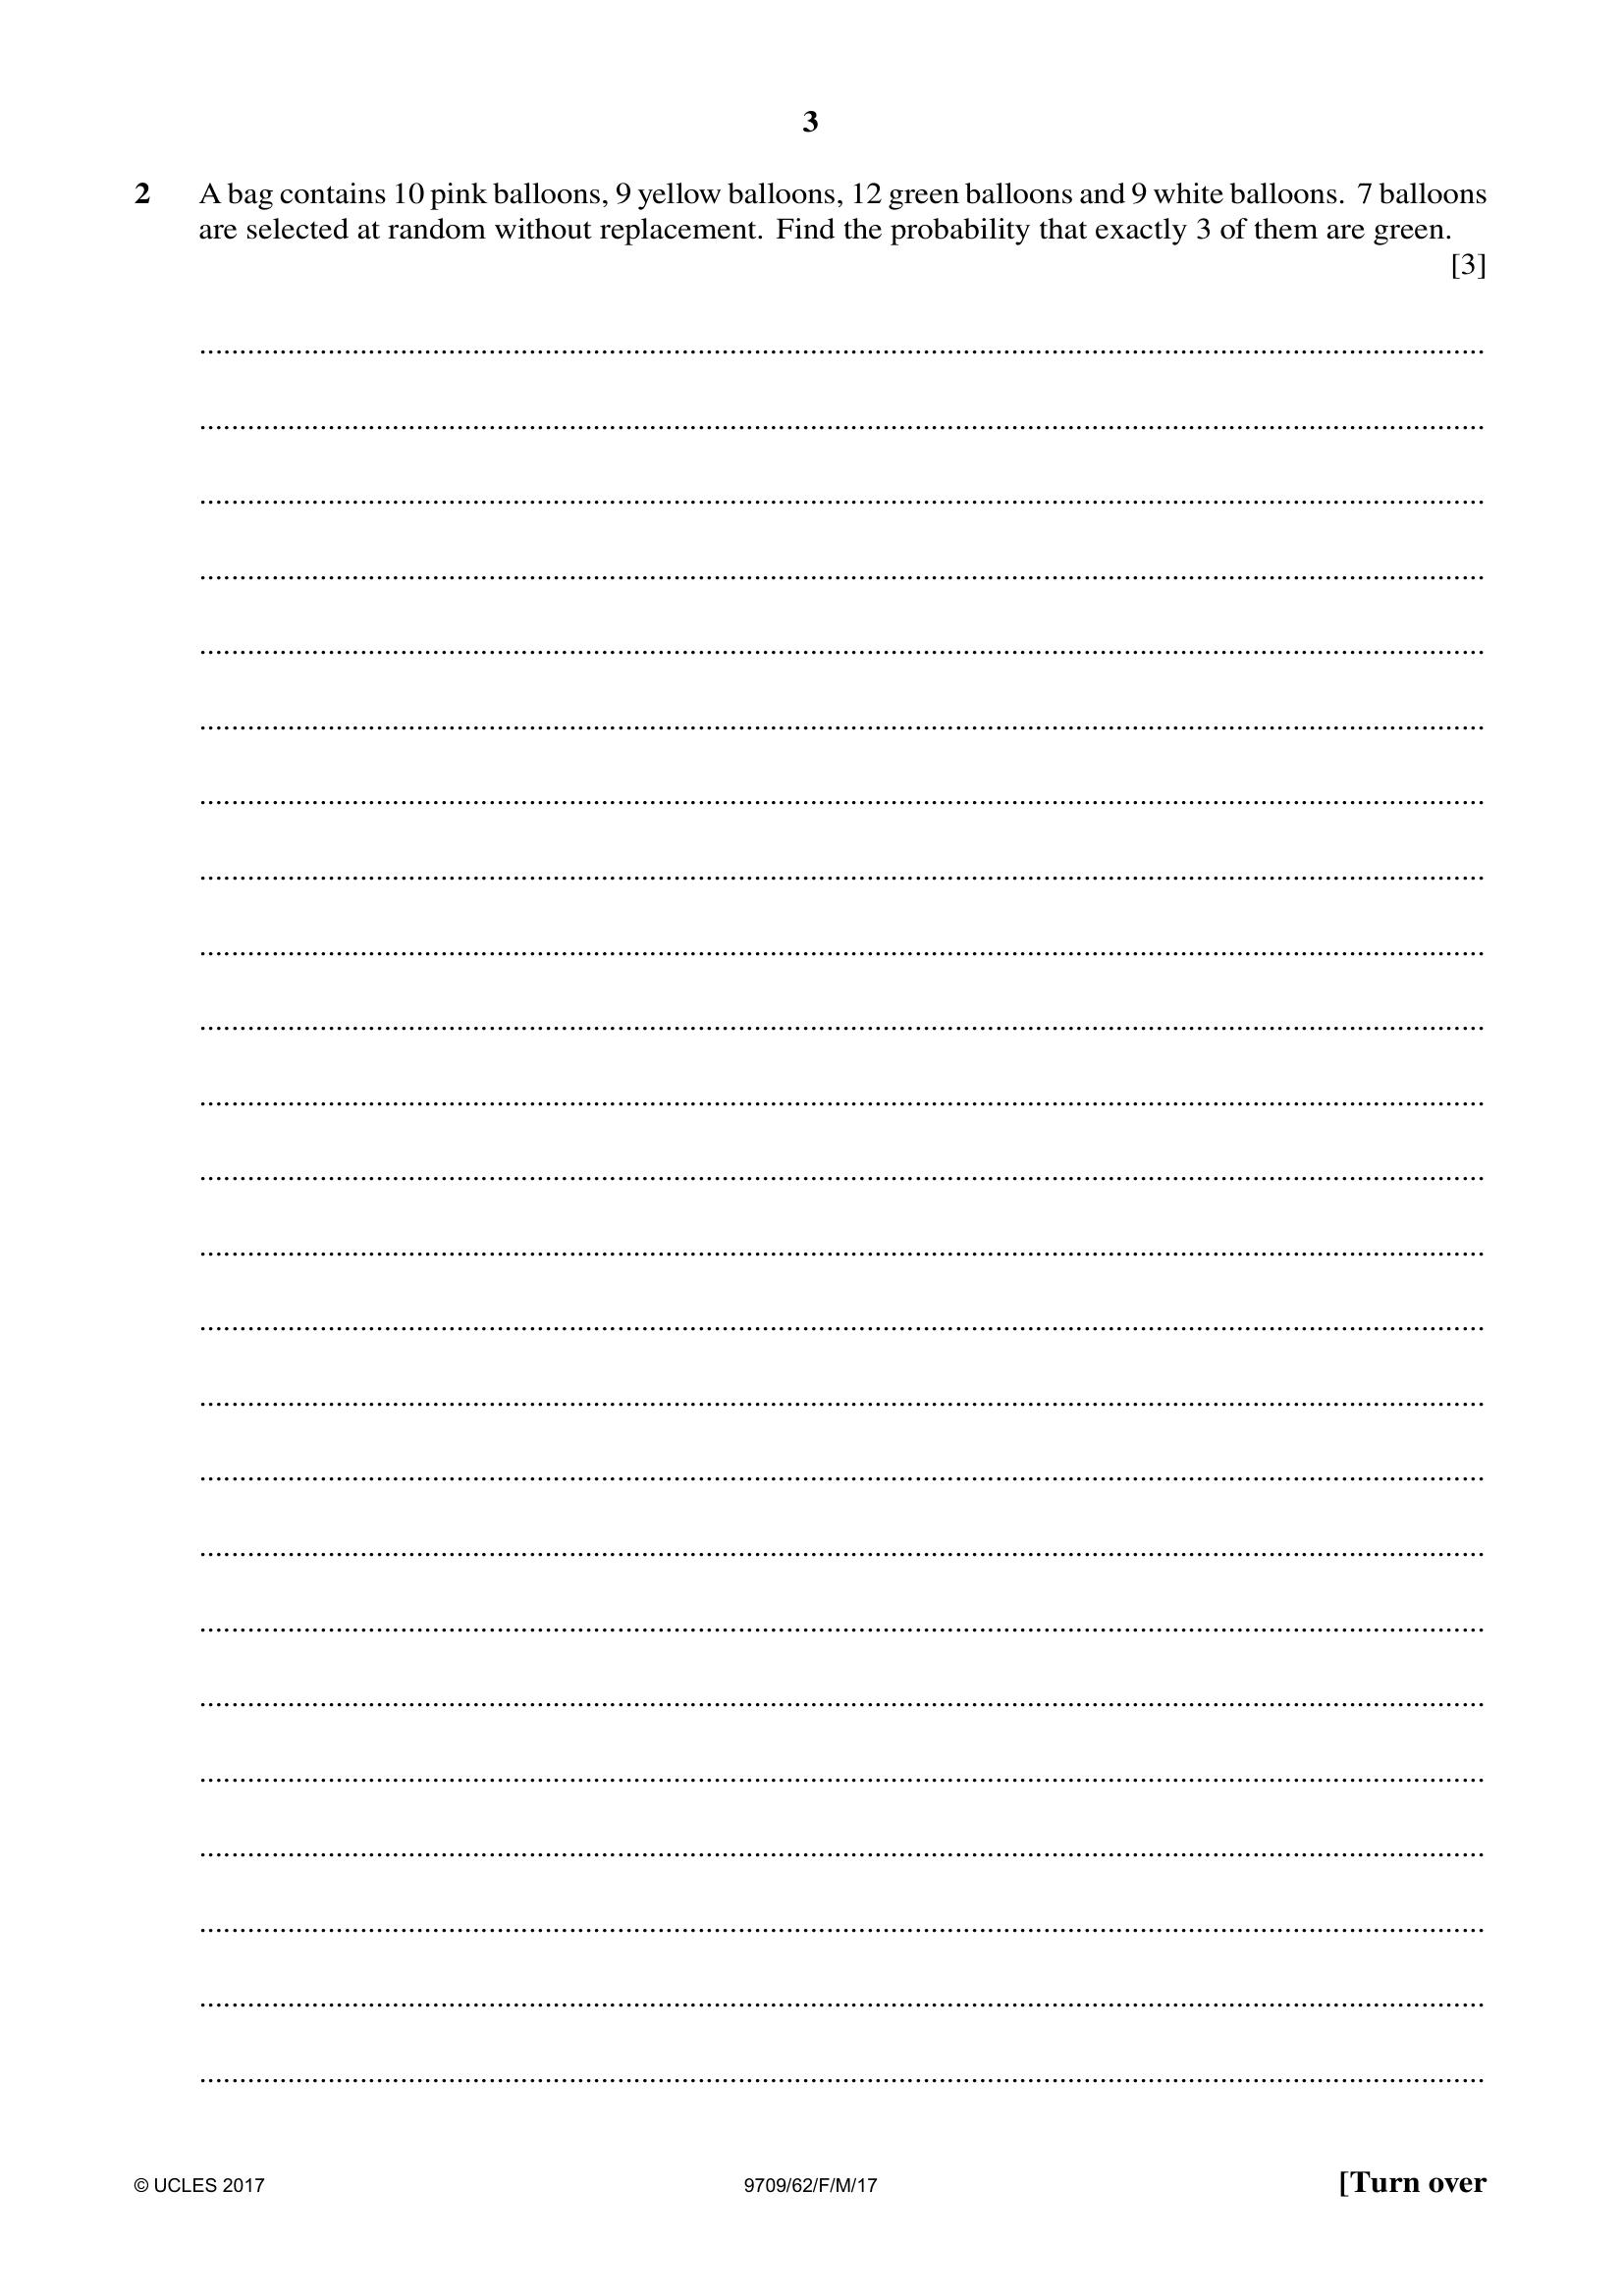question: (2, 142, 1621, 2108)
